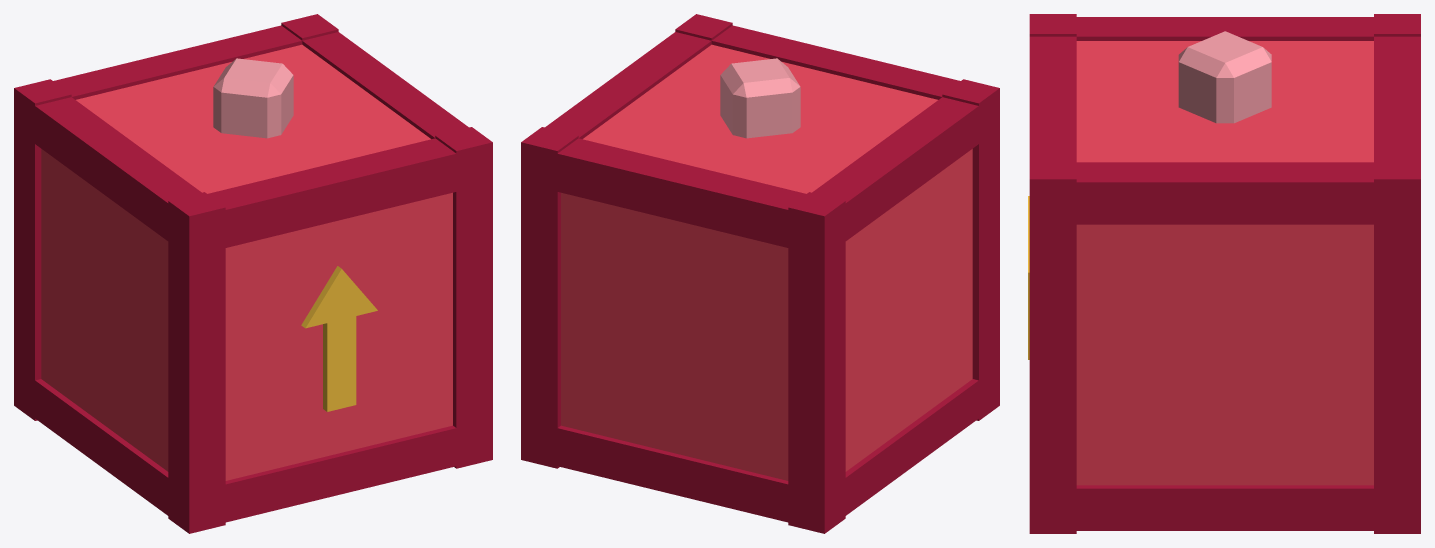
Rendered from RubyLootCrate.fbx.
3 views of the same model, side by side, from view 1: azimuth 30°, elevation 25°; view 2: azimuth 150°, elevation 25°; view 3: azimuth 270°, elevation 25° (orthographic). The views are drawn at different scales.
Parts seen in each view (by area): view 1: RubyLootCrate; view 2: RubyLootCrate; view 3: RubyLootCrate.
Part boxes in pixels (x1,y1,x2,y2): RubyLootCrate: [14, 14, 492, 533]; RubyLootCrate: [521, 14, 999, 533]; RubyLootCrate: [1028, 14, 1420, 533].
Size of the model in its own units: 2.5 by 2.85 by 2.51.
Materials: 1 (1 with a texture image).
